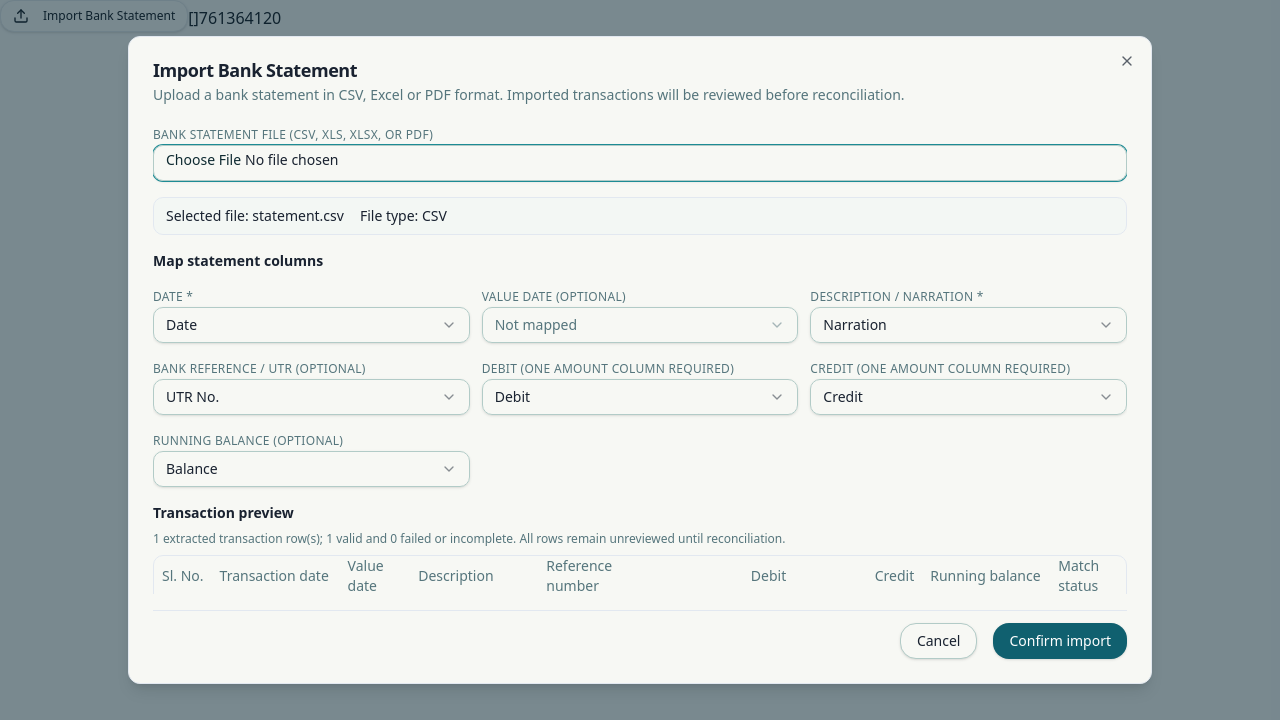
Test: Bank statement import flow › persists confirmed imported rows in browser storage without changing transactions or balances
Earlier steps of the test are not shown.
Later steps or results of the test are not shown.
Expected: the heading "Transaction preview" is shown, [153,503,294,522]
Click the button "Confirm import" at (1060, 641), box [994,623,1127,659]
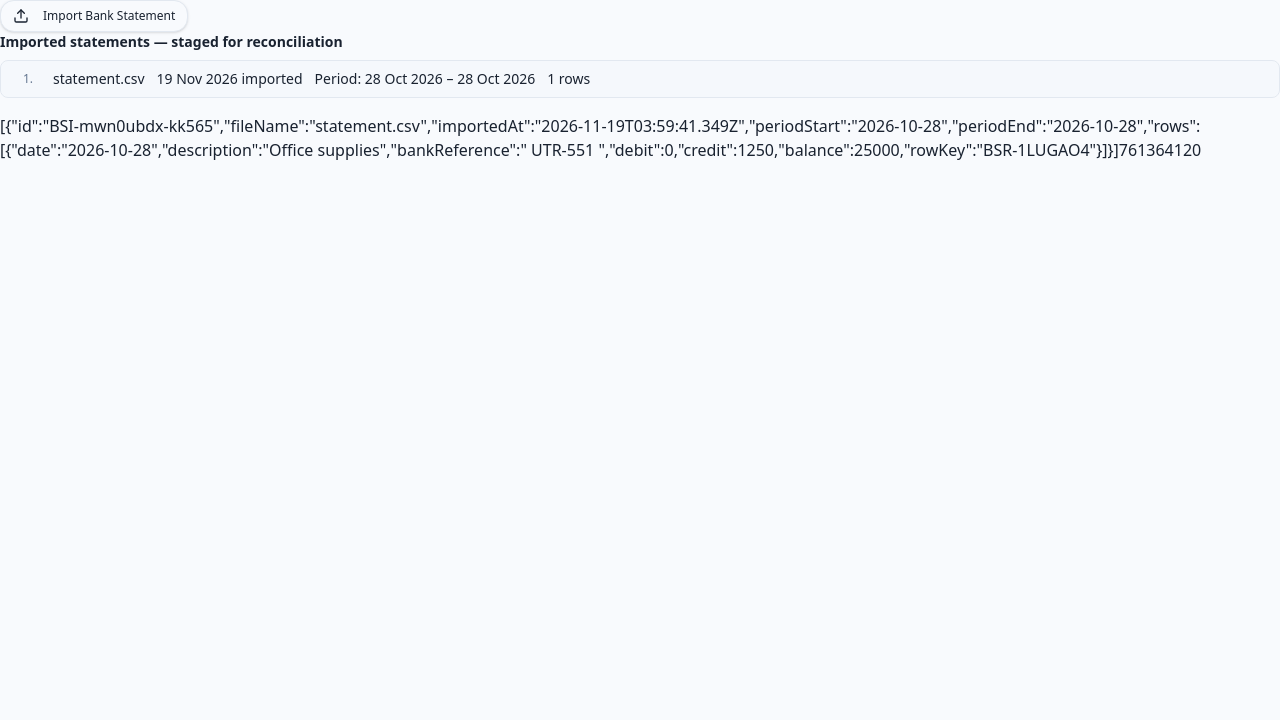
Expected: the text with test id "transaction-count" reads "76", [1119,139,1137,161]
Result: the heading "Imported statements — staged for reconciliation" is shown at [0,32,343,51]
